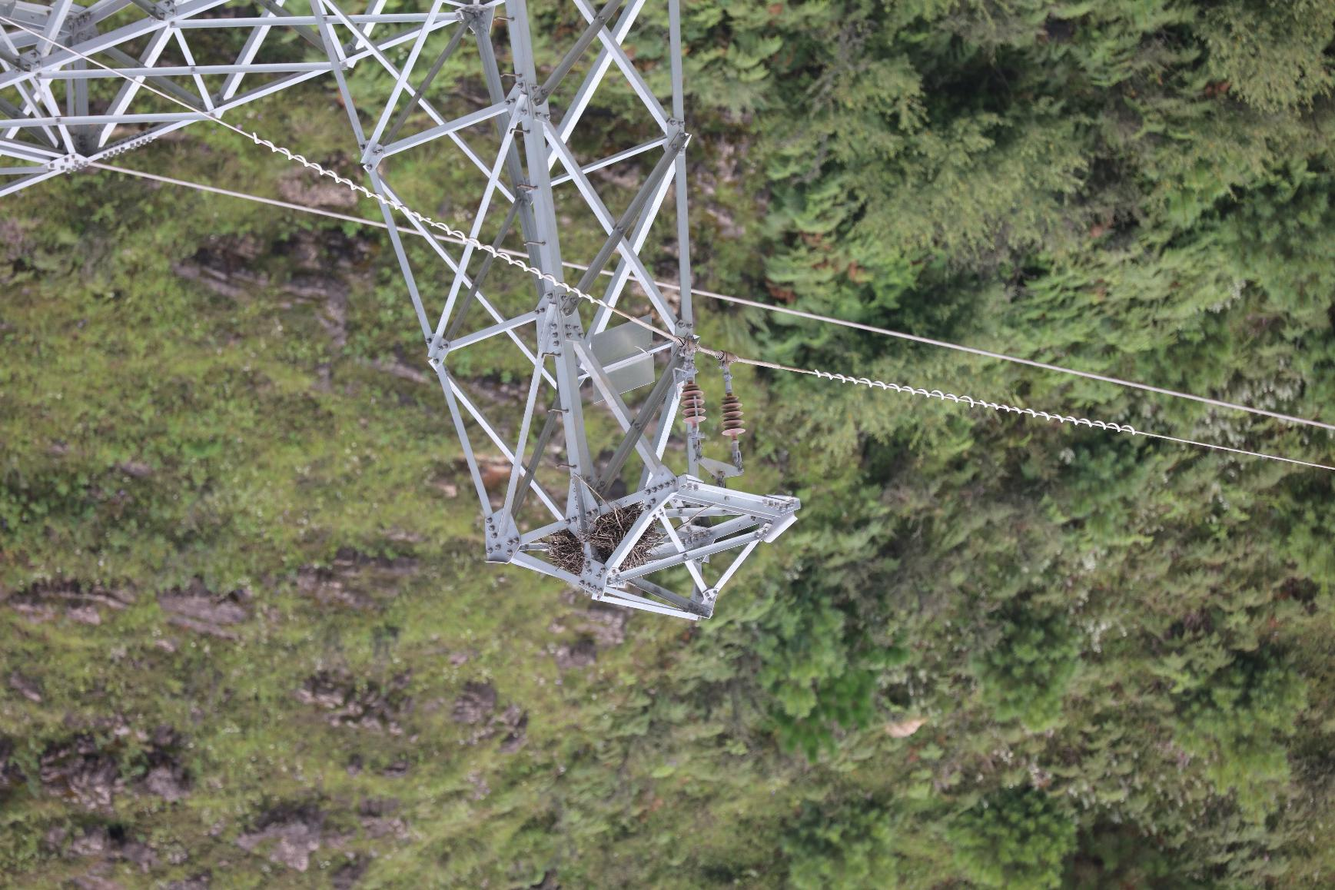nest: (545, 500, 661, 579)
